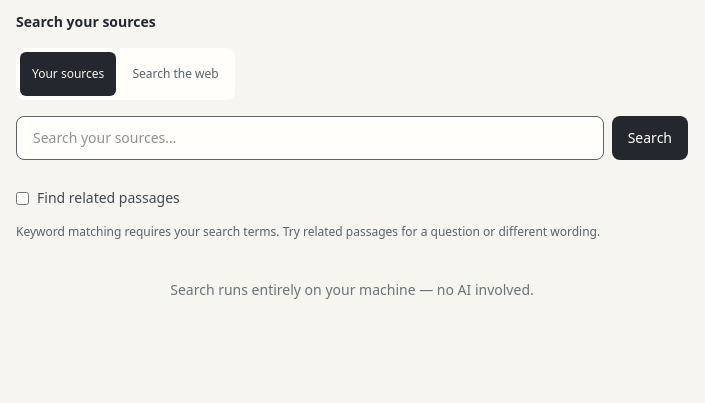
Test: round8 item4 excerpt dedupe › strips a leading title-echo from the snippet
Type "photosynthesis" into the search field with placeholder "Search your sources…" at (310, 138), box [16,116,604,160]
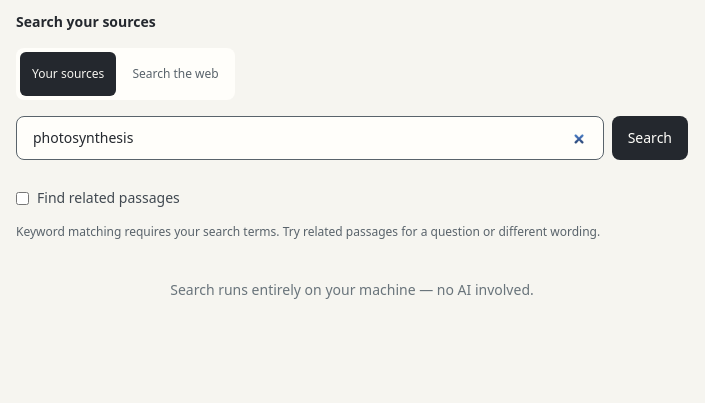
Submit the form with placeholder "search your sources", box [16,116,688,160]
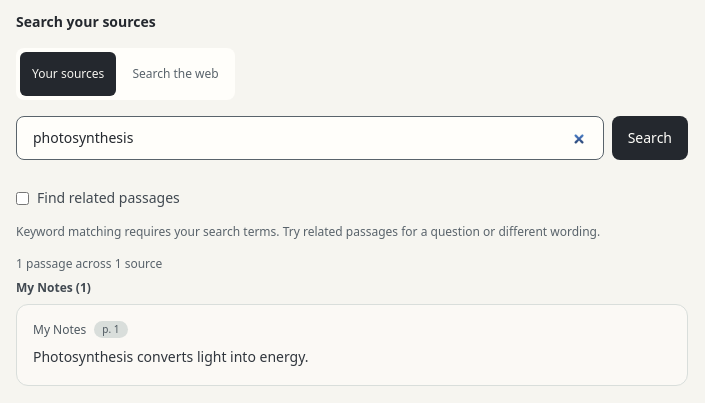
Check: the message named "Search result count" is shown, box [16,255,162,272]
Check: the text "Photosynthesis converts light into energy." is shown, box [33,347,309,366]
